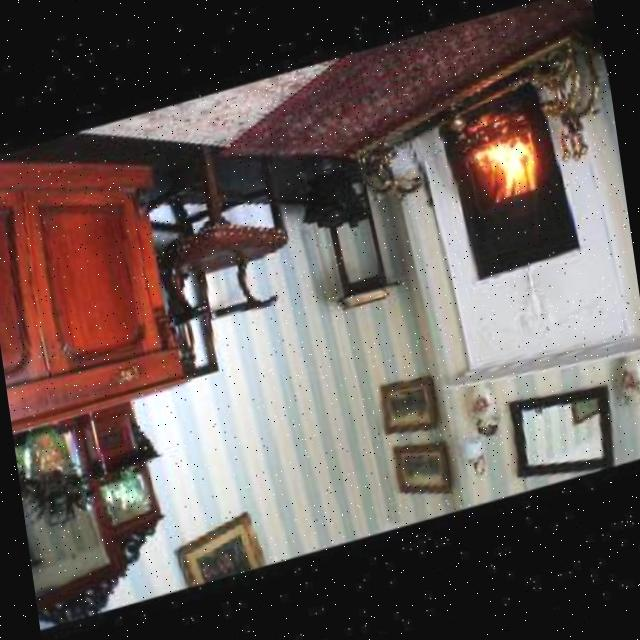fire: (457, 114, 555, 219)
